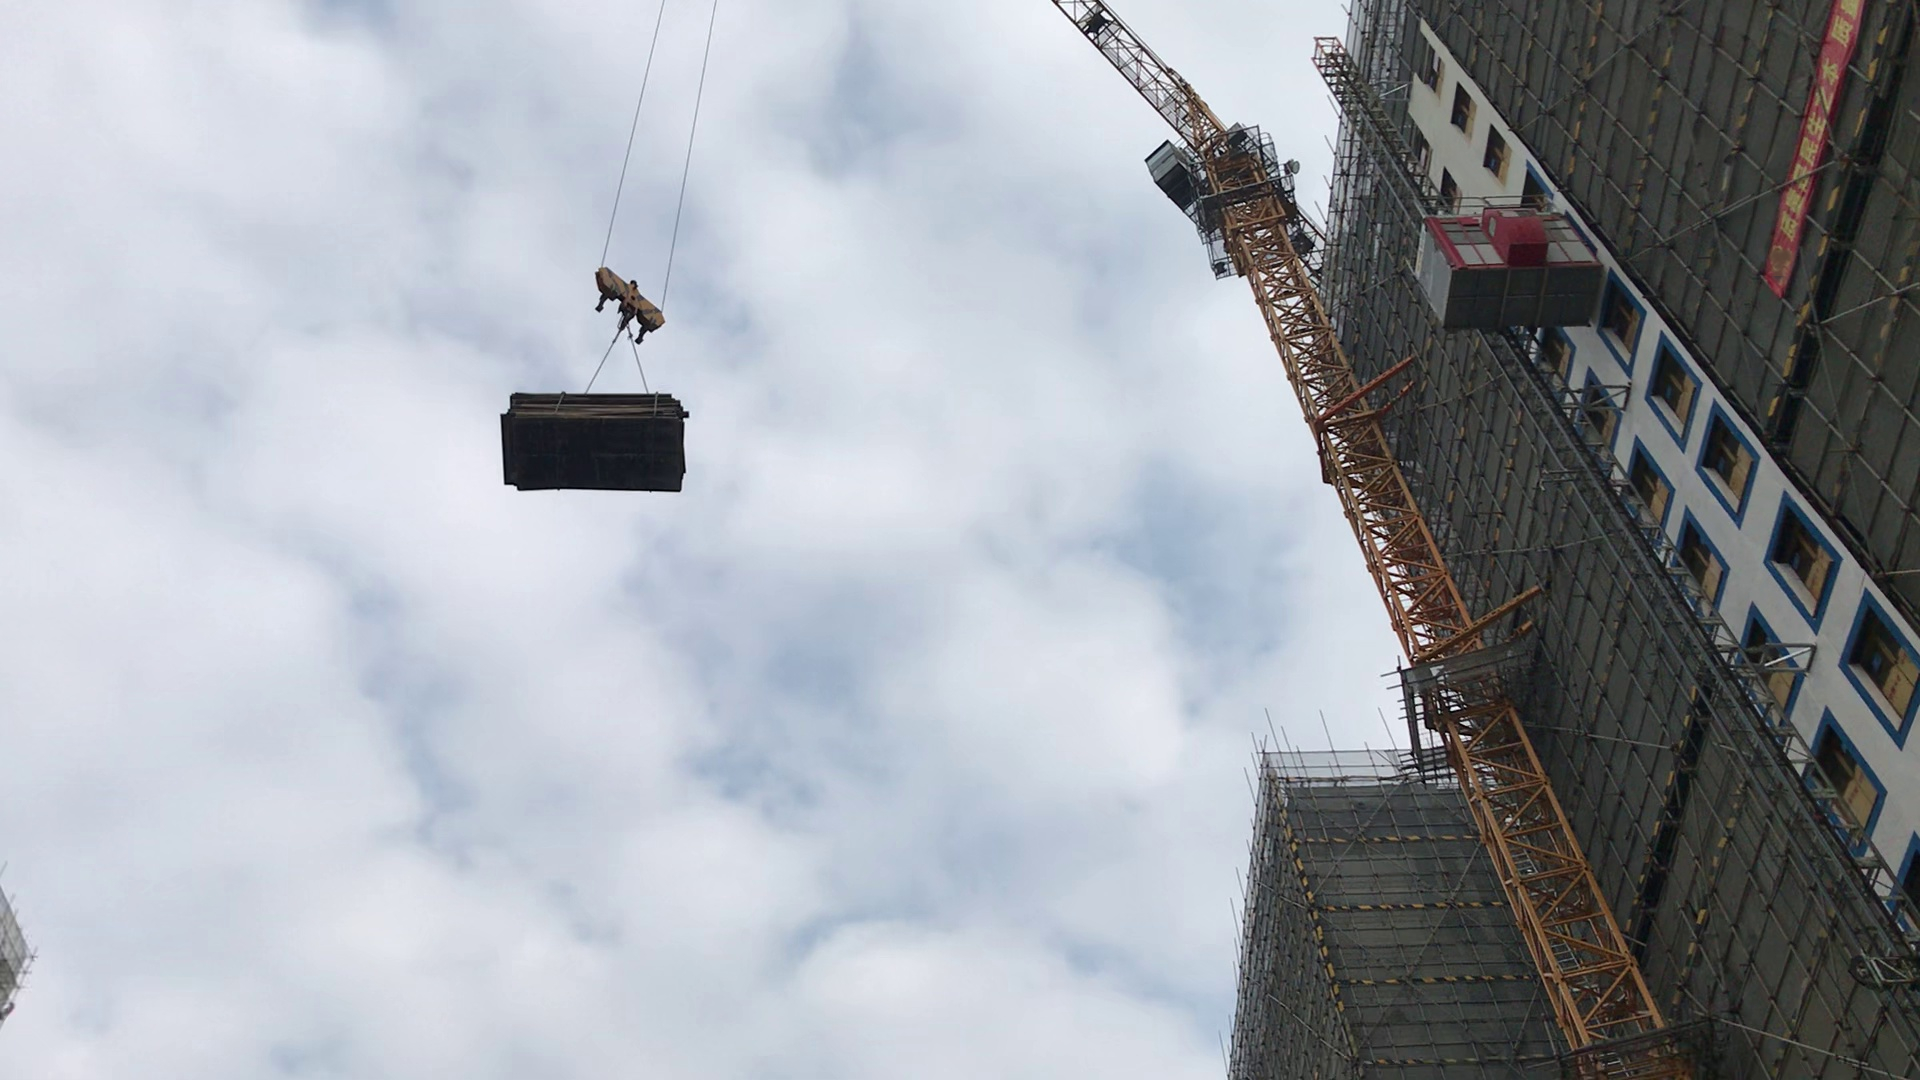board: (460, 378, 729, 520)
hook: (568, 204, 705, 357)
slogan: (1742, 1, 1878, 319)
